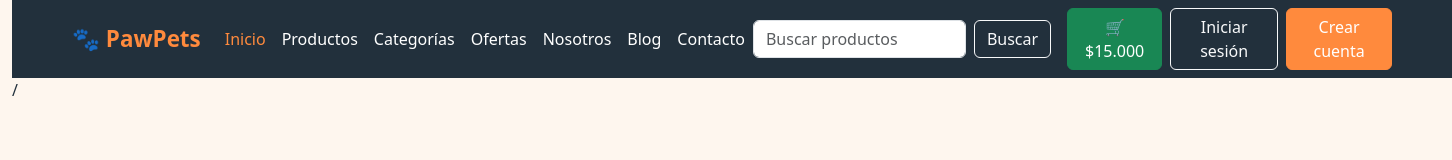
Test: Componente Header › el buscador navega a /productos?q=texto al enviar el formulario
The image size is (1452, 160).
// Escribe "collar" en el buscador
In the search field labelled "Buscar productos": (859, 39) 753,20 -> 966,58, type "collar"
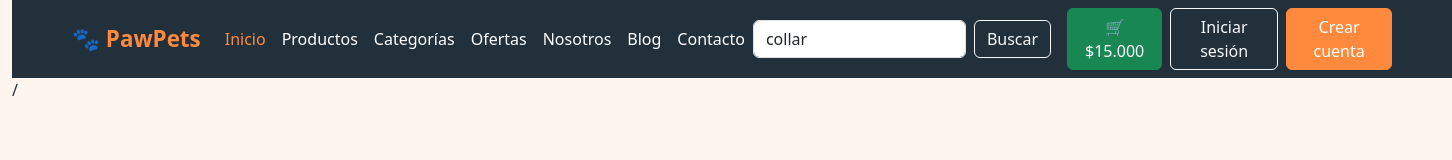
// Envía el formulario del buscador
Submit the form, box 753,20 -> 1051,58
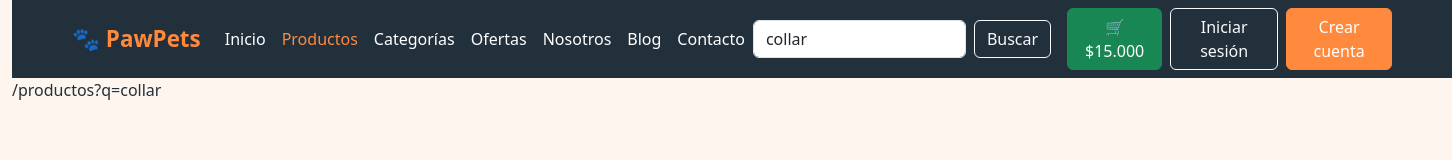
expect the text with test id "ruta" reads "/productos?q=collar": met, box 12,79 -> 161,101
